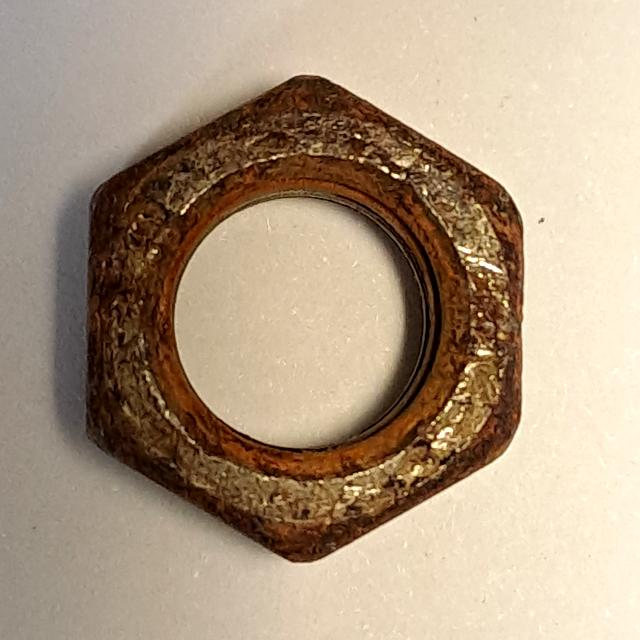Rust: (72, 60, 536, 577)
